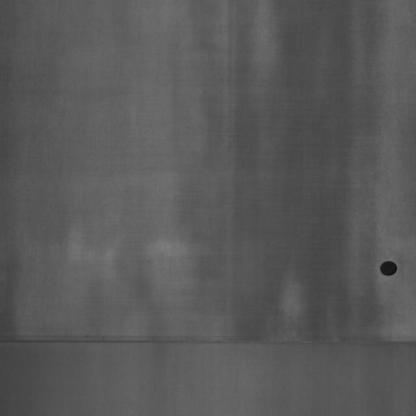punching_hole: (376, 254, 400, 280)
welding_line: (1, 328, 414, 356)
